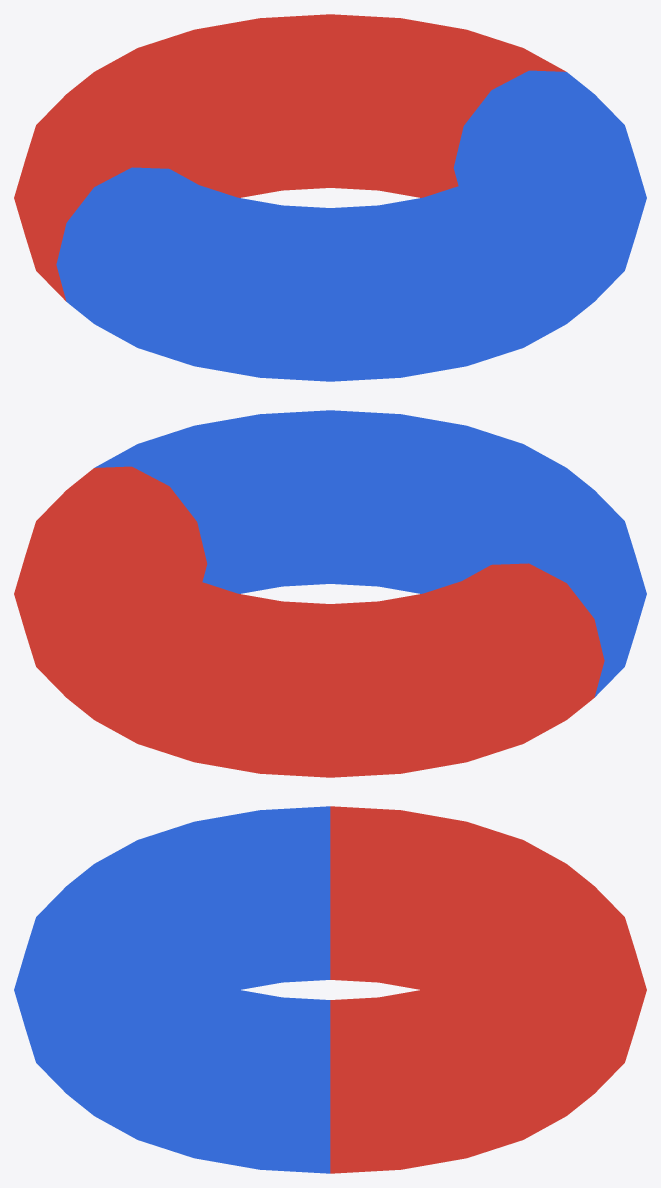
3 renders of one model, top to bottom at view 1: azimuth 30°, elevation 25°; view 2: azimuth 150°, elevation 25°; view 3: azimuth 270°, elevation 25°, orthographic.
Visible parts, largest first — view 1: Torus; view 2: Torus; view 3: Torus.
Boxes of the visible parts, <box> form: Torus: <box>14,14,646,381</box>; Torus: <box>14,410,646,777</box>; Torus: <box>14,806,646,1173</box>.
Bounding box in the file's own units: 2.76 × 0.76 × 2.76.
